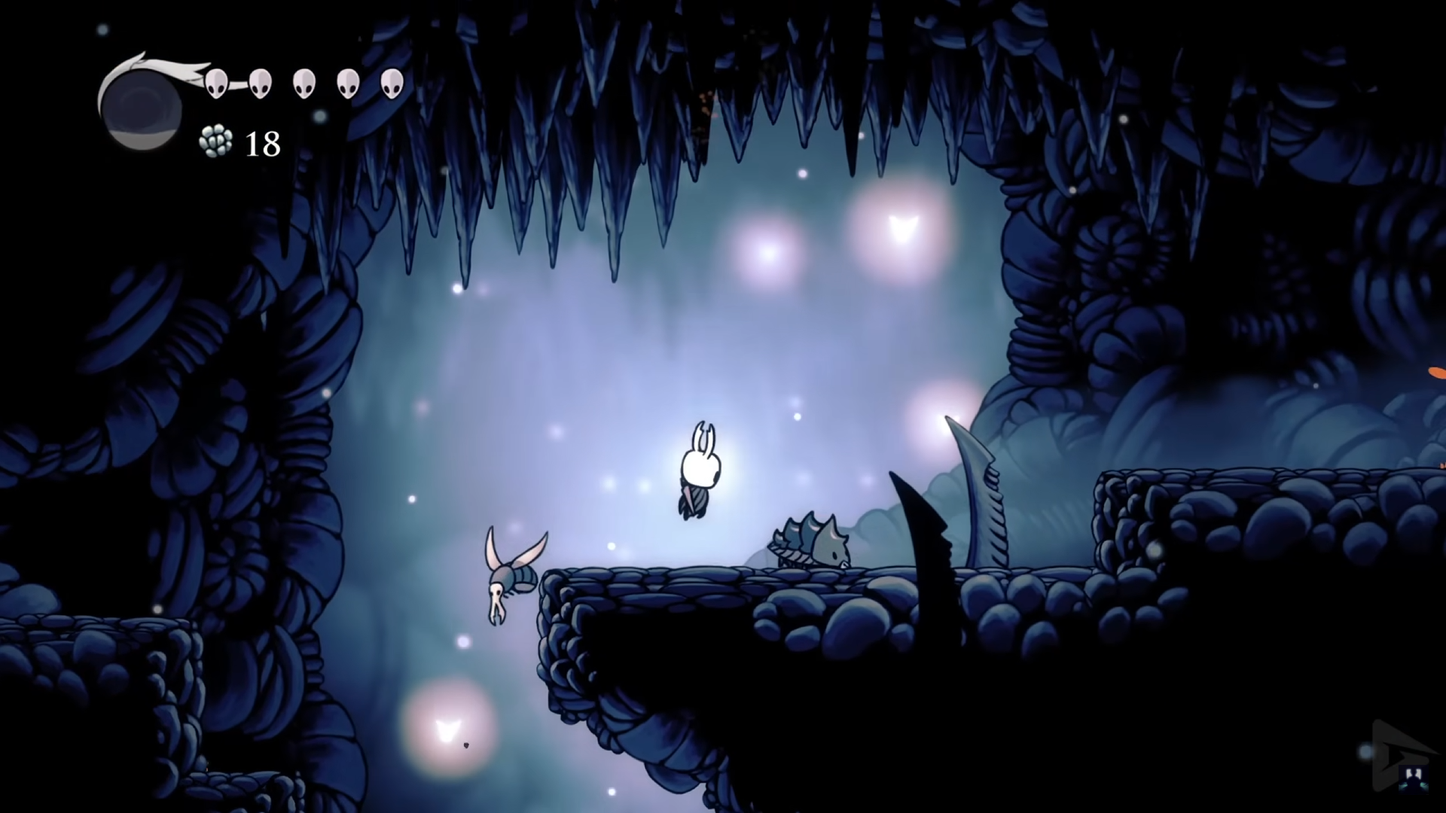HK: (669, 416, 726, 528)
